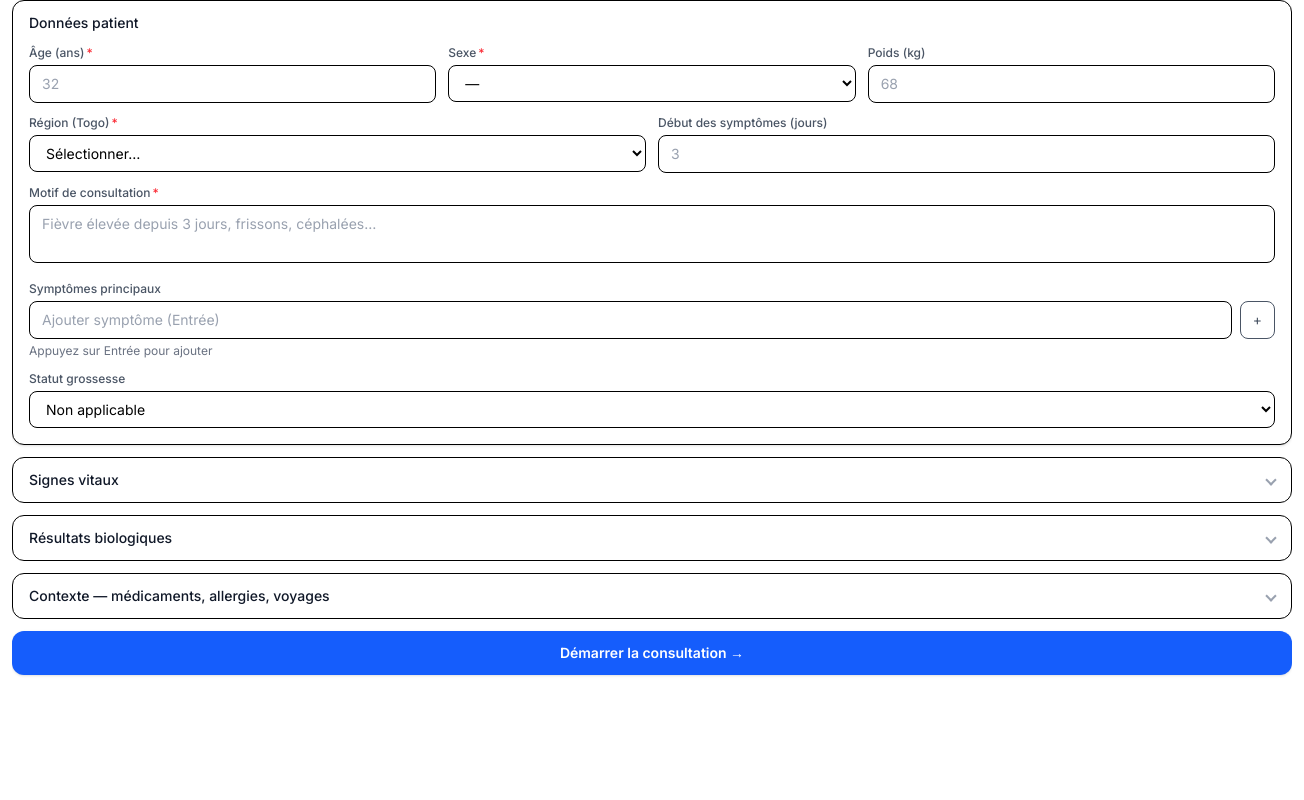
it: IntakeForm — mandatory field validation › rejects submission when age is missing
This screenshot has width=1304, height=800.
Select "Masculin" in the dropdown labelled "Sexe*" at x=652, y=84, box [448,65,856,102]
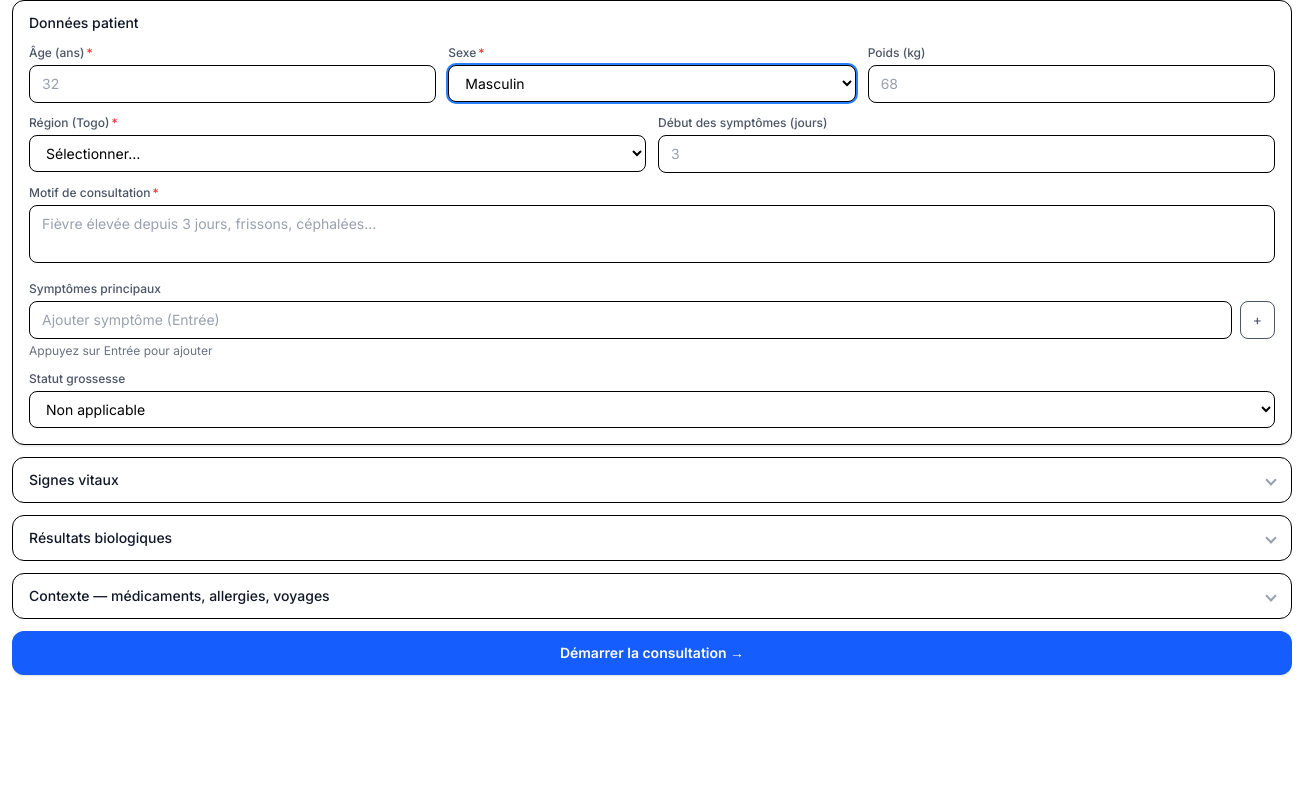
Select "Maritime" in the dropdown labelled "Région (Togo)*" at x=338, y=154, box [29,135,646,172]
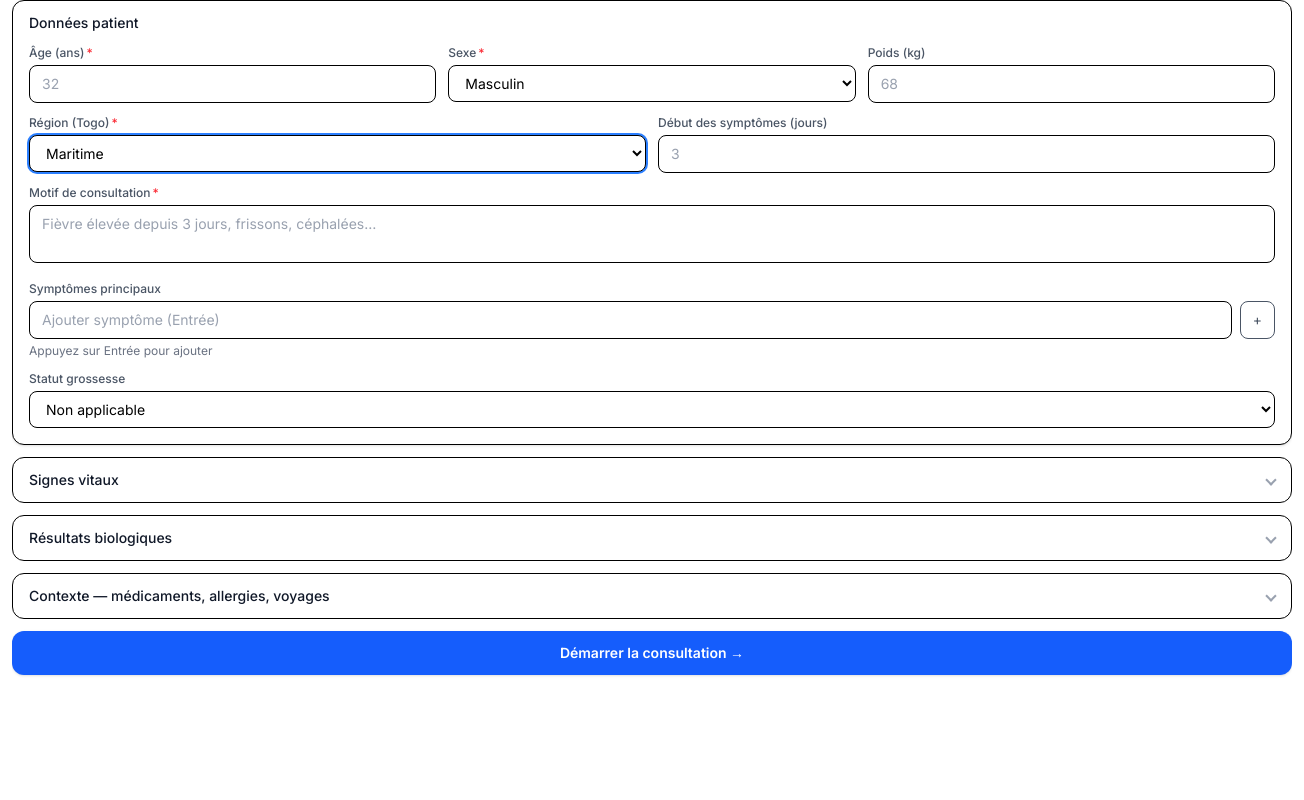
Type "Fièvre depuis 3 jours" into the text box labelled "Motif de consultation*".
click(652, 234); type("Fièvre depuis 3 jours")  # box [29,205,1275,263]
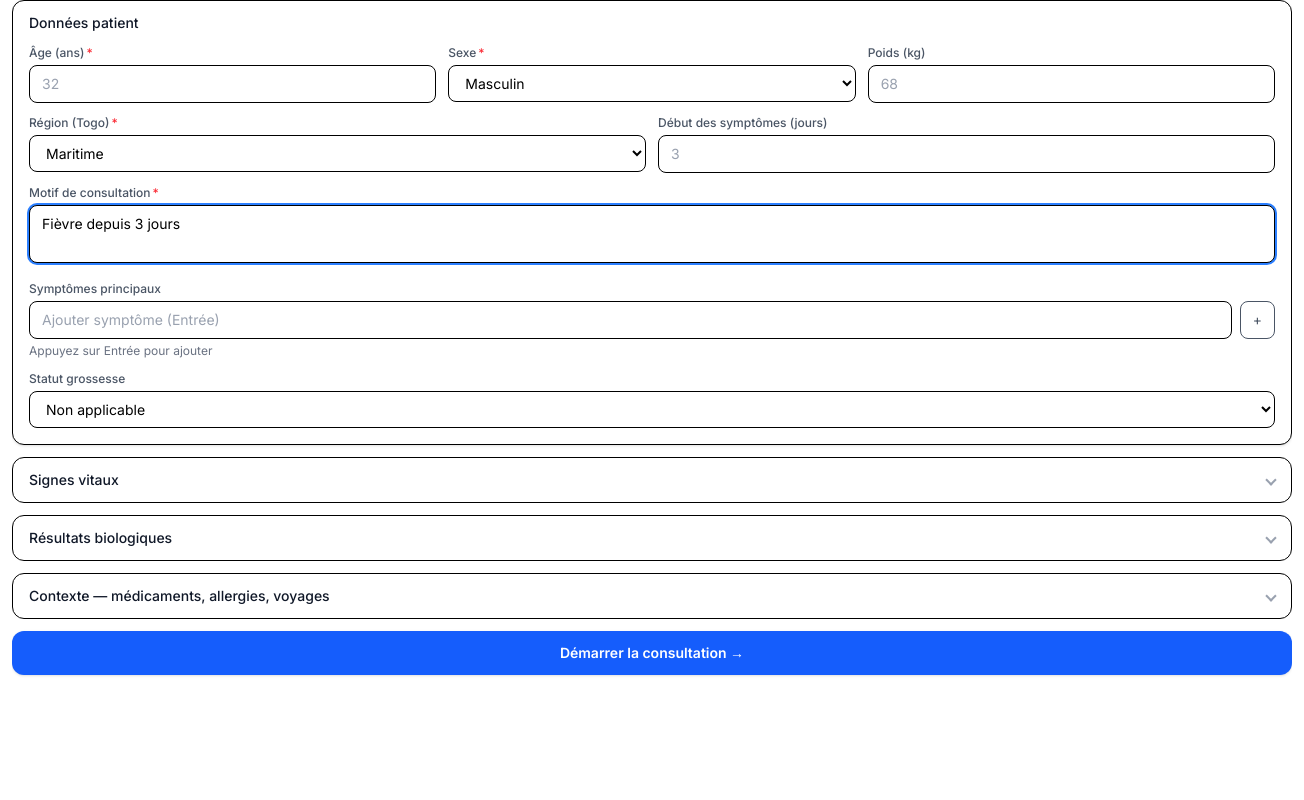
Click the button "Démarrer la consultation →".
click(652, 653)  # box [12,631,1292,675]
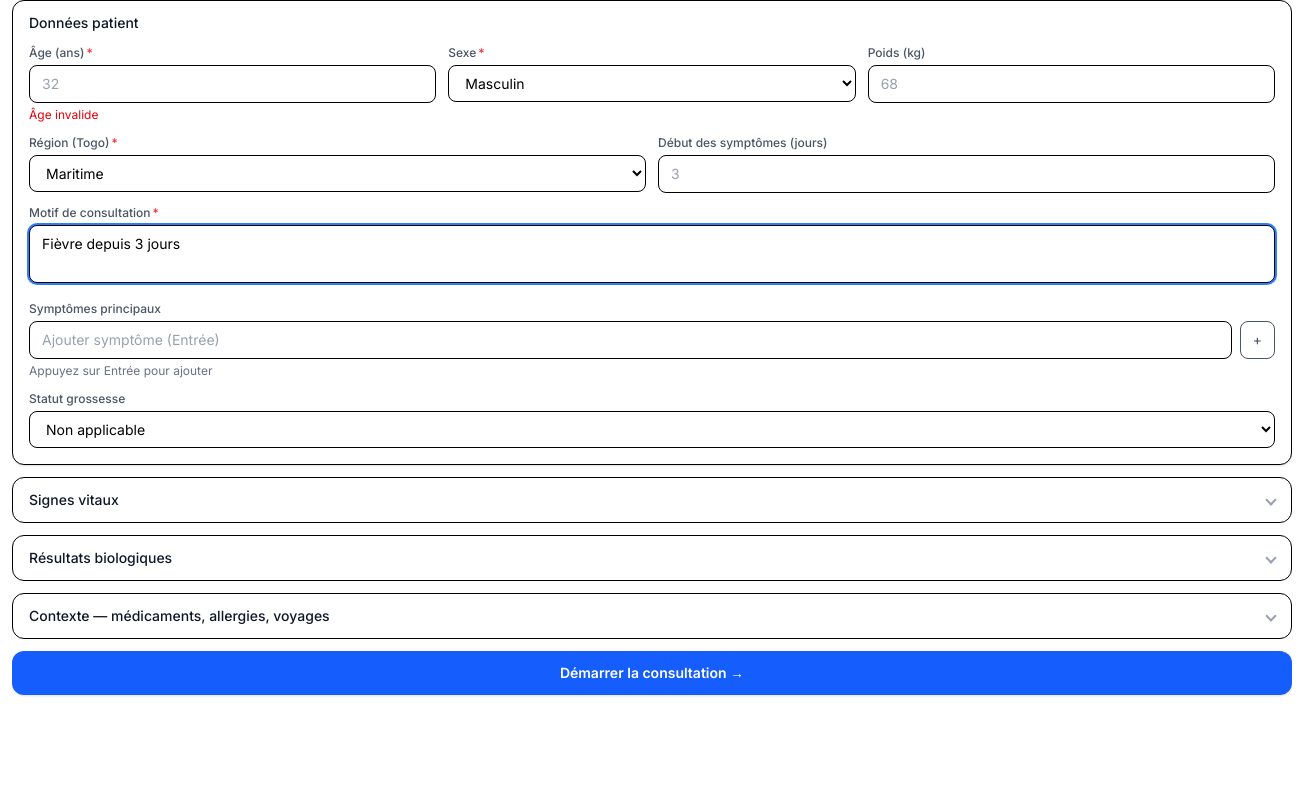
Result: the text "Âge invalide" is shown at [29,107,98,122]
